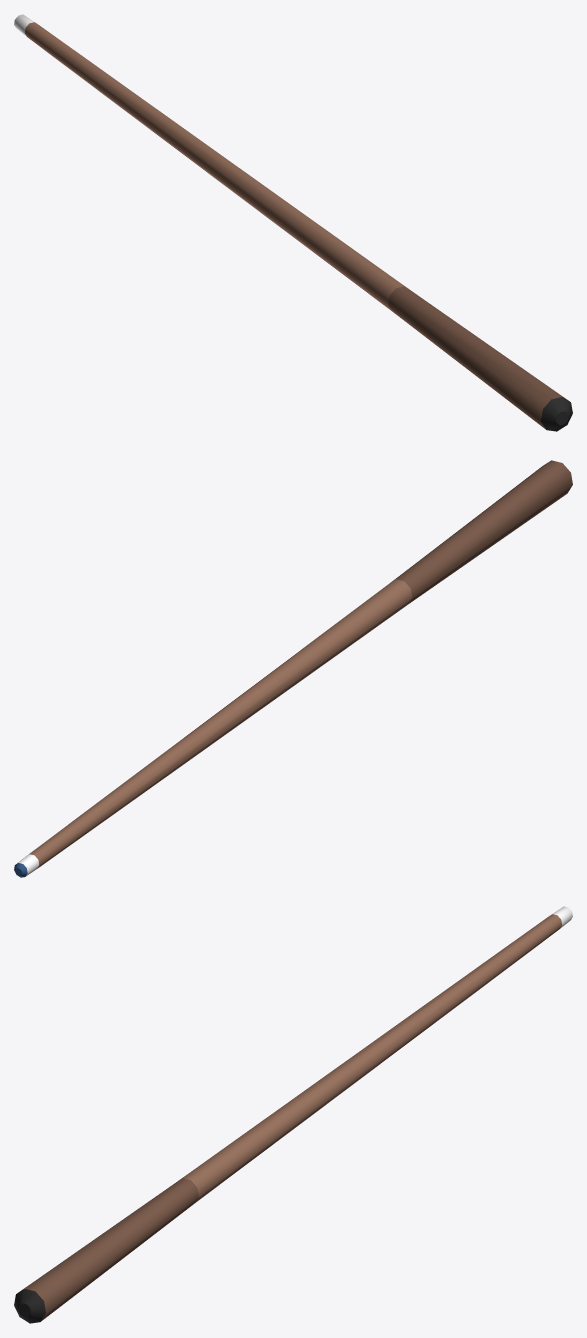
The model's file is SM_Props_Pool_02.fbx.
The picture shows the model from 3 angles, top to bottom: view 1: azimuth 30°, elevation 25°; view 2: azimuth 150°, elevation 25°; view 3: azimuth 330°, elevation 25°; orthographic projection.
Parts seen in each view (by area): view 1: SM_Props_Pool_02; view 2: SM_Props_Pool_02; view 3: SM_Props_Pool_02.
Part boxes in pixels (box(x1,y1,x2,y2)): SM_Props_Pool_02: box(14, 14, 572, 431); SM_Props_Pool_02: box(14, 460, 572, 877); SM_Props_Pool_02: box(14, 906, 572, 1323).
Bounding box in the file's own units: 0.05 × 0.05 × 1.47.
